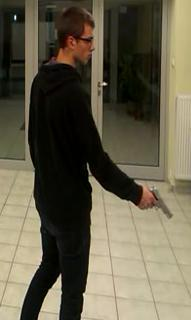pistol: (141, 182, 173, 221)
